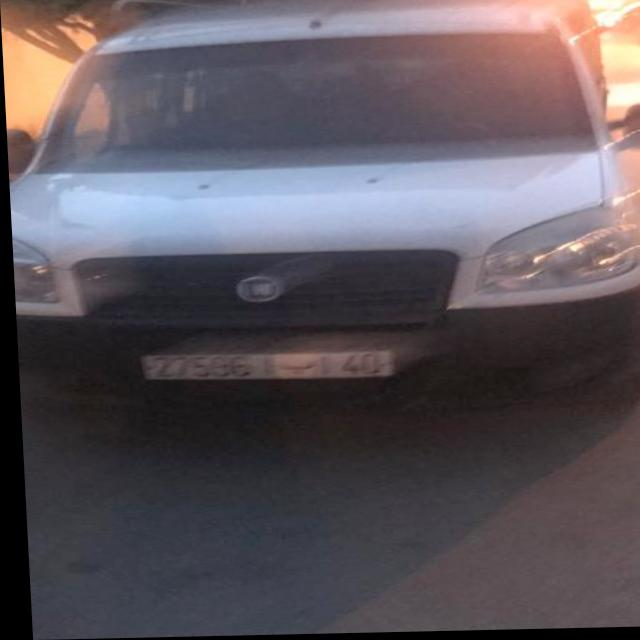License-Plate: (142, 352, 388, 380)
